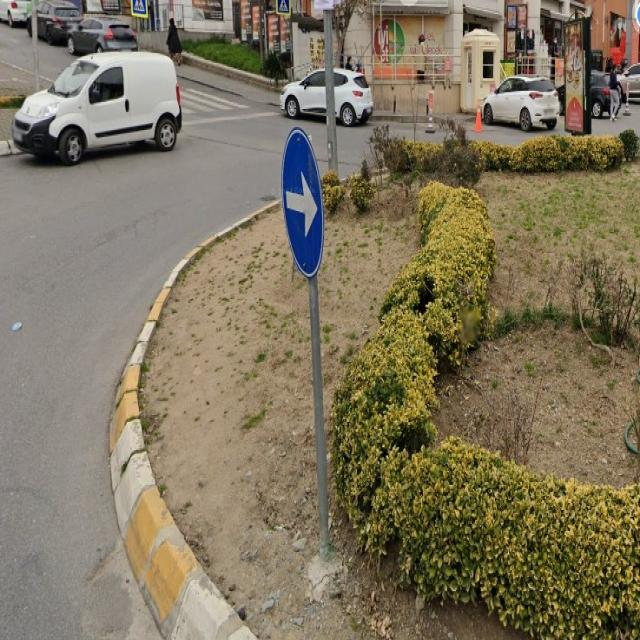Turn Right: (282, 125, 327, 284)
